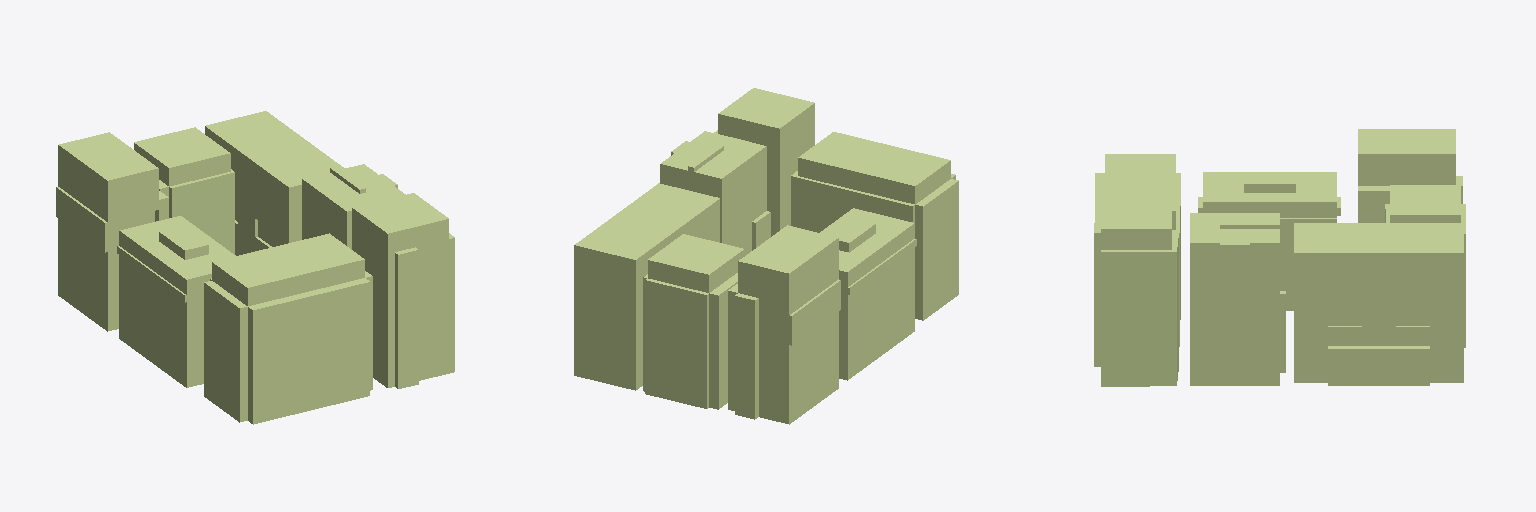
The model's file is city_004.obj.
3 renders of one model, left to right at view 1: azimuth 30°, elevation 25°; view 2: azimuth 150°, elevation 25°; view 3: azimuth 270°, elevation 25°, orthographic.
Parts seen in each view (by area): view 1: Box019, Box020, Box021, Box023, Box022, Box025, Box024; view 2: Box021, Box019, Box022, Box025, Box023, Box024, Box020; view 3: Box022, Box024, Box020, Box023, Box021, Box019, Box025.
Part boxes in pixels (bbox=[...]): Box019: bbox=[204, 233, 372, 424]; Box020: bbox=[352, 193, 454, 388]; Box021: bbox=[56, 132, 168, 331]; Box023: bbox=[117, 216, 235, 387]; Box022: bbox=[205, 111, 344, 255]; Box025: bbox=[134, 127, 234, 254]; Box024: bbox=[302, 164, 405, 249]; Box021: bbox=[728, 225, 840, 424]; Box019: bbox=[791, 132, 958, 320]; Box022: bbox=[574, 183, 719, 390]; Box025: bbox=[643, 234, 744, 409]; Box023: bbox=[820, 208, 916, 380]; Box024: bbox=[660, 131, 770, 255]; Box020: bbox=[714, 88, 814, 236]; Box022: bbox=[1294, 223, 1463, 385]; Box024: bbox=[1190, 213, 1285, 385]; Box020: bbox=[1094, 199, 1178, 386]; Box023: bbox=[1198, 172, 1340, 310]; Box021: bbox=[1358, 129, 1462, 222]; Box019: bbox=[1095, 154, 1180, 346]; Box025: bbox=[1385, 185, 1465, 347].
Size of the model in its own units: 4.3 by 2.84 by 6.18.